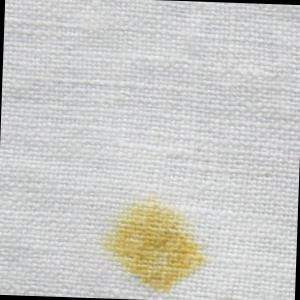Oil Stain: (99, 190, 217, 298)
